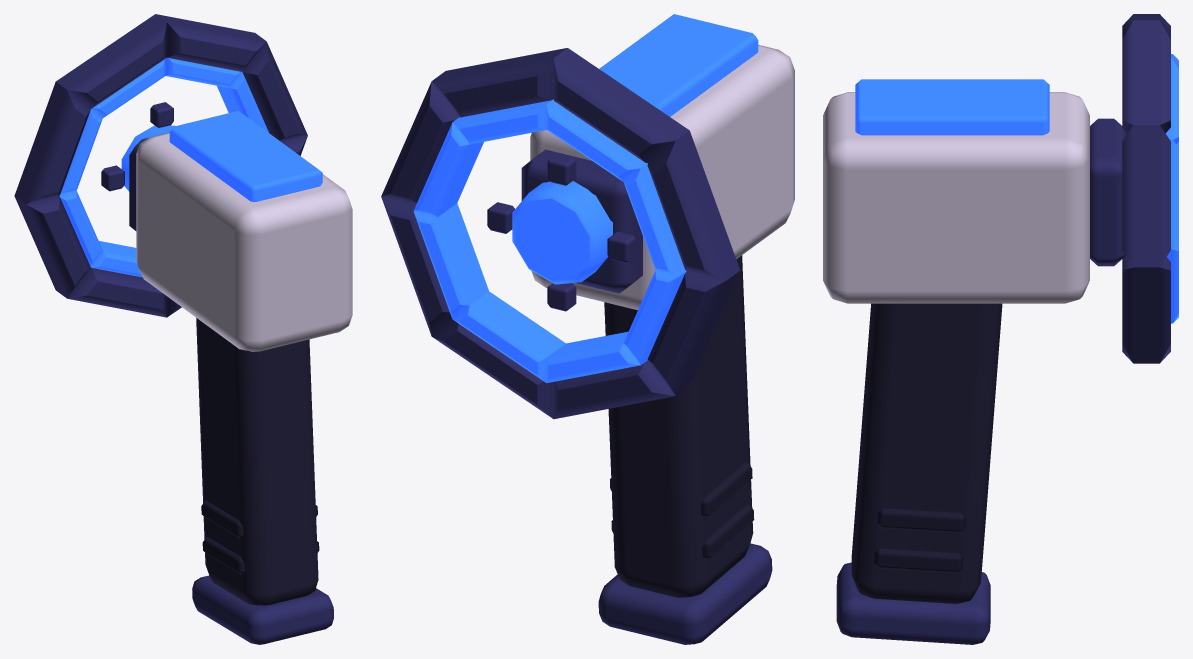
Rendered from shield_emitter.glb.
3 views of the same model, side by side, from view 1: azimuth 30°, elevation 25°; view 2: azimuth 150°, elevation 25°; view 3: azimuth 270°, elevation 25° (orthographic). The views are drawn at different scales.
Parts seen in each view (by area): view 1: item.shield_emitter.body, part.ring; view 2: part.ring, item.shield_emitter.body; view 3: item.shield_emitter.body, part.ring.
Boxes of the visible parts, bbox=[...] form: item.shield_emitter.body: bbox=[129, 111, 352, 644]; part.ring: bbox=[14, 14, 307, 317]; part.ring: bbox=[381, 48, 740, 419]; item.shield_emitter.body: bbox=[521, 14, 794, 644]; item.shield_emitter.body: bbox=[823, 79, 1127, 644]; part.ring: bbox=[1122, 14, 1178, 363].
Size of the model in its own units: 0.2875 by 0.5176 by 0.275.
